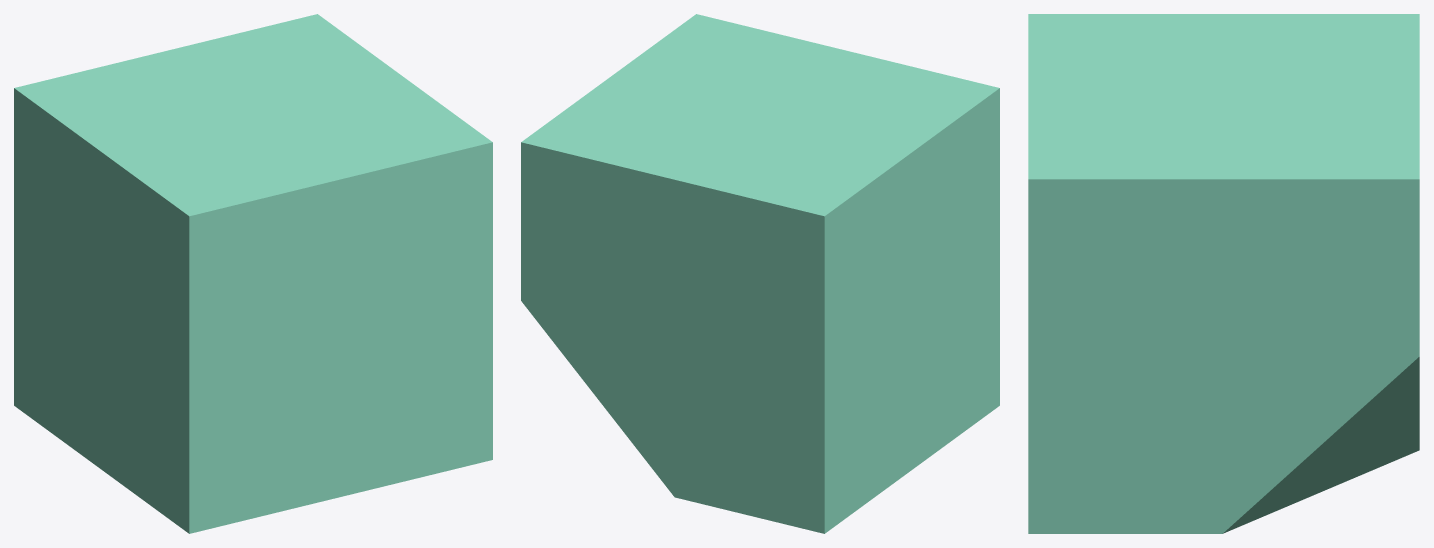
File: верх.gltf
The picture shows the model from 3 angles, left to right: view 1: azimuth 30°, elevation 25°; view 2: azimuth 150°, elevation 25°; view 3: azimuth 270°, elevation 25°; orthographic projection. The views are drawn at different scales.
Visible parts, largest first — view 1: верх; view 2: верх; view 3: верх.
Part boxes in pixels (left/top/right/bottom): верх: left=14, top=14, right=492, bottom=533; верх: left=521, top=14, right=999, bottom=533; верх: left=1028, top=14, right=1419, bottom=533.
Bounding box in the file's own units: 2 × 2 × 2.
